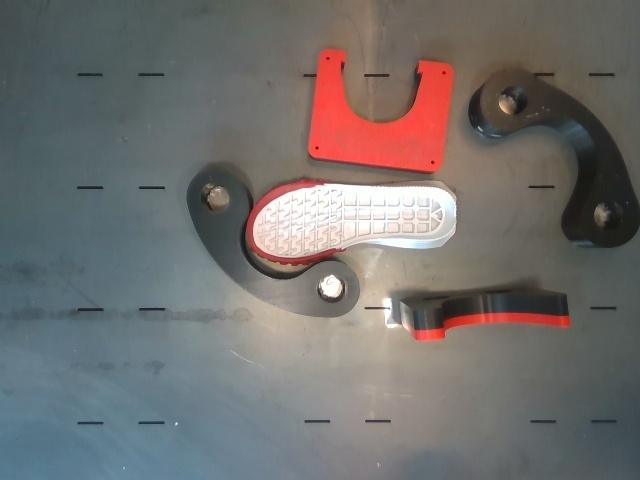shoes: (248, 183, 455, 260)
